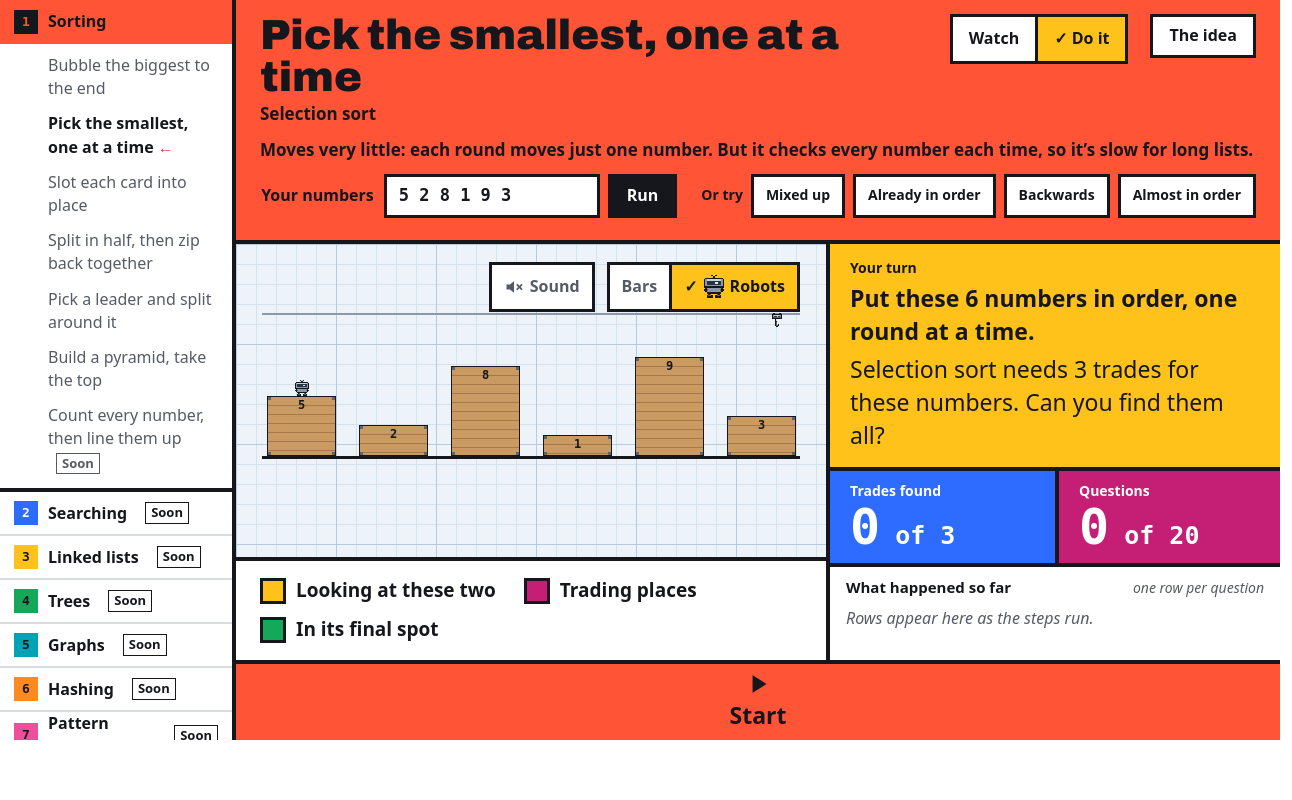
selection sort: Do it › Explorer: the help ladder at a comparison, then Show me makes the move
Click the button "Start" at (758, 702), box [236,664,1280,740]
Wait 4000 ms
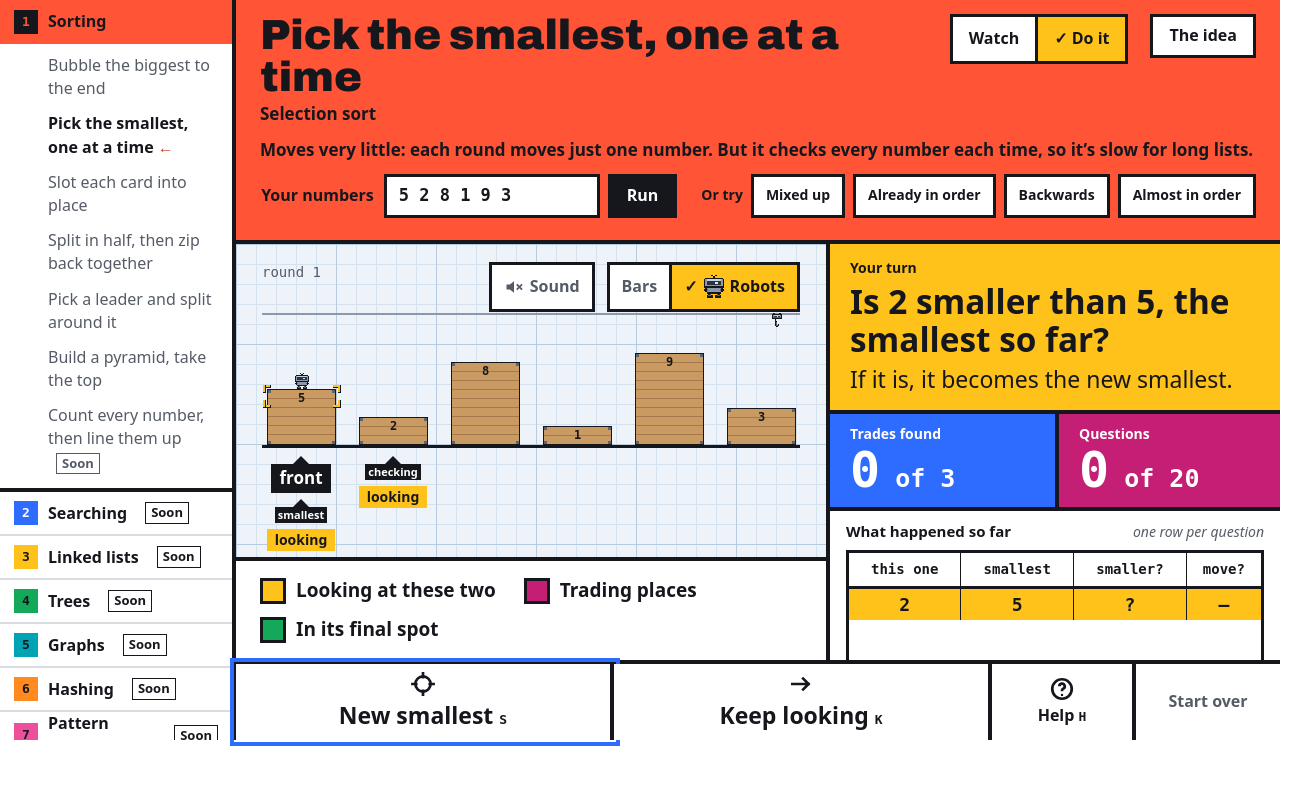
Click the button "Help H" at (1064, 702), box [992,664,1136,740]
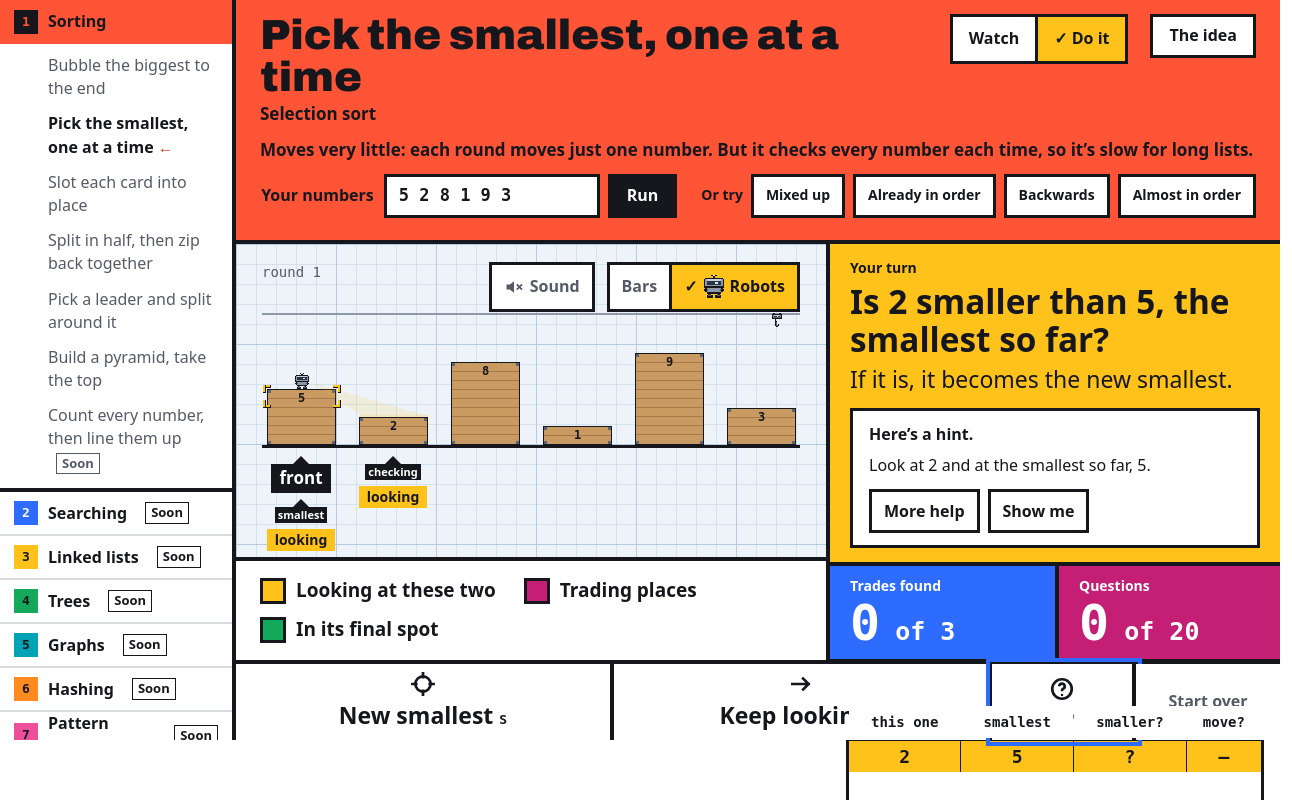
Click the button "More help" at (924, 511), box [869,489,980,533]
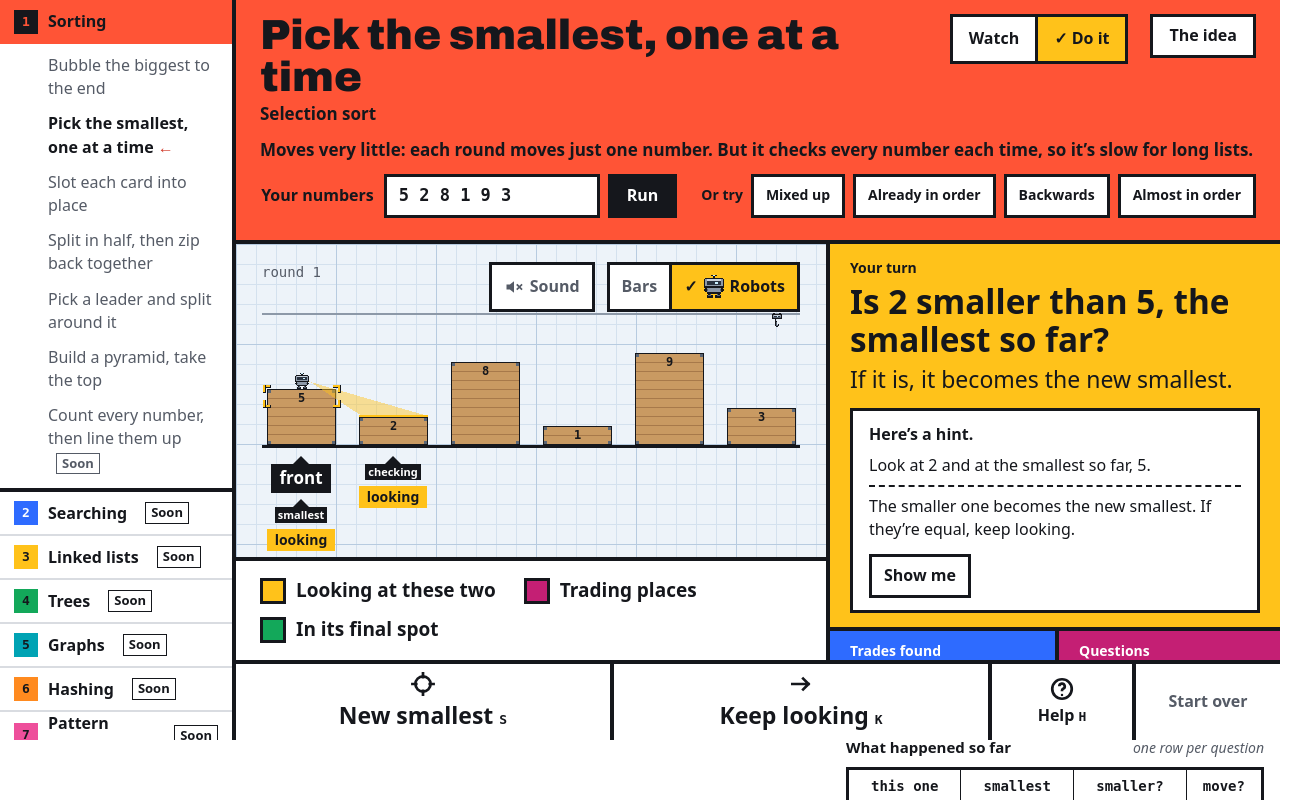
Click the button "Show me" at (920, 576), box [869,554,971,598]
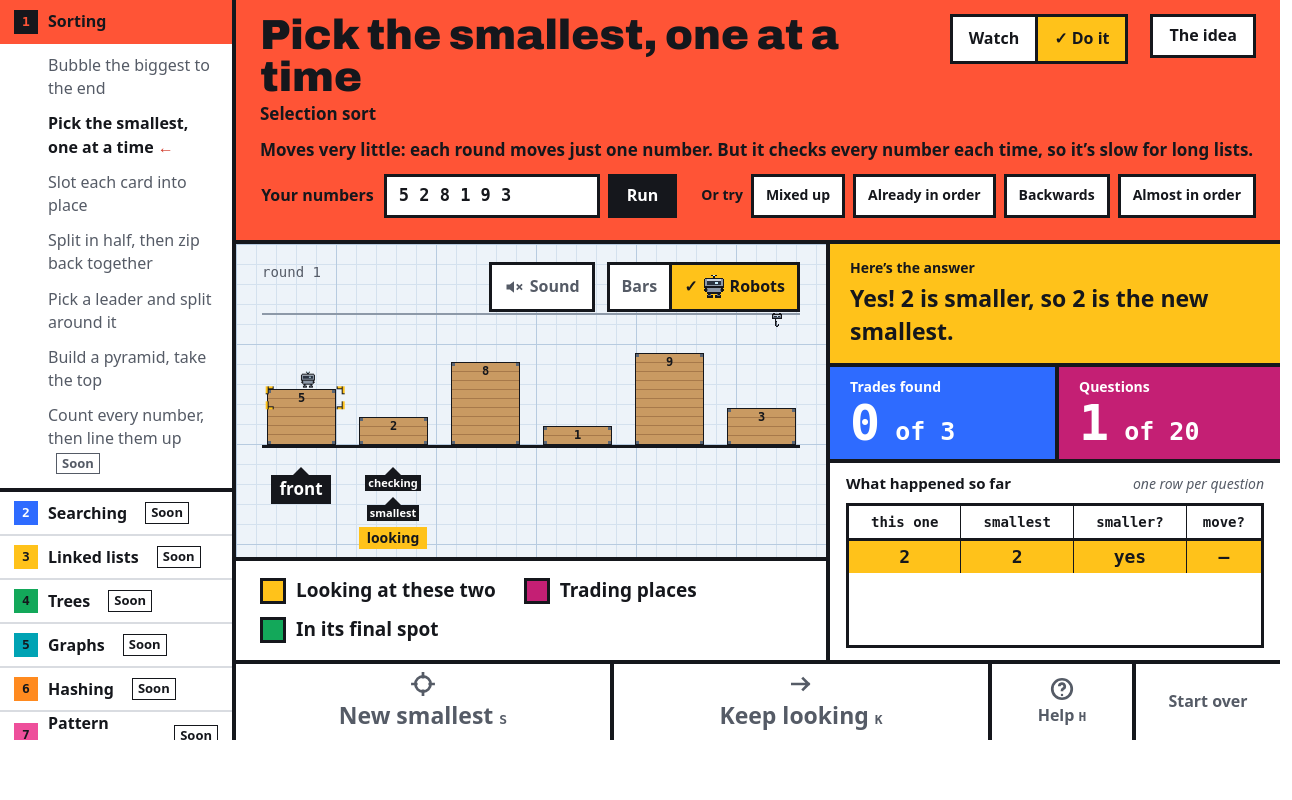
Check: the element with class "do-it-panel" shows "Here’s the answer", box [850,258,975,277]
Check: the element with class "do-it-panel" shows "Yes! 2 is smaller, so 2 is the new smallest.", box [850,282,1208,347]
